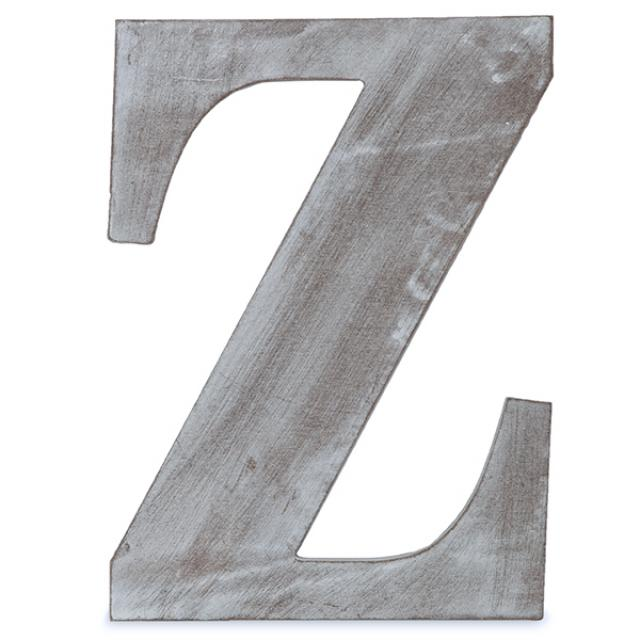Z: (48, 0, 589, 625)
